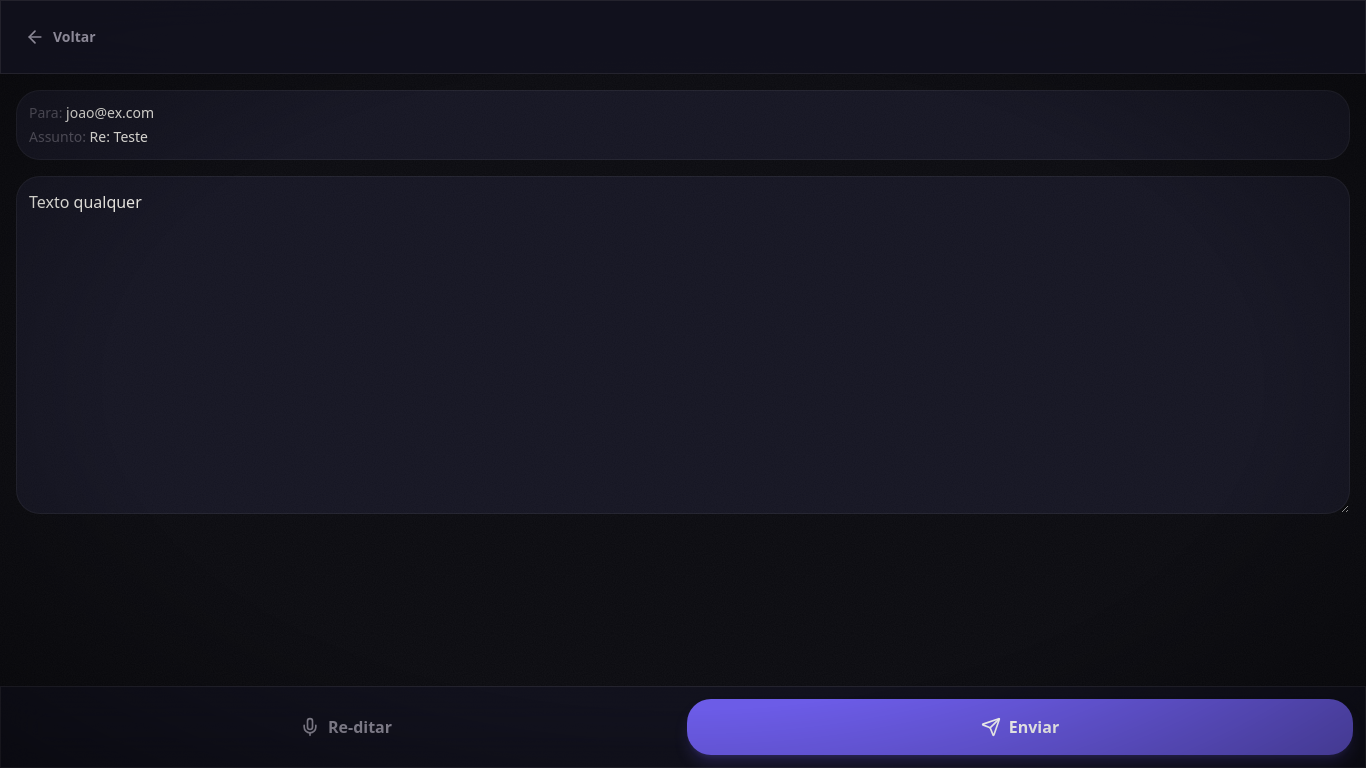
Test: DraftPage › clicking Send shows error toast on failure
The image size is (1366, 768).
Click the button "Enviar".
click(1020, 727)  # box [687,699,1353,755]
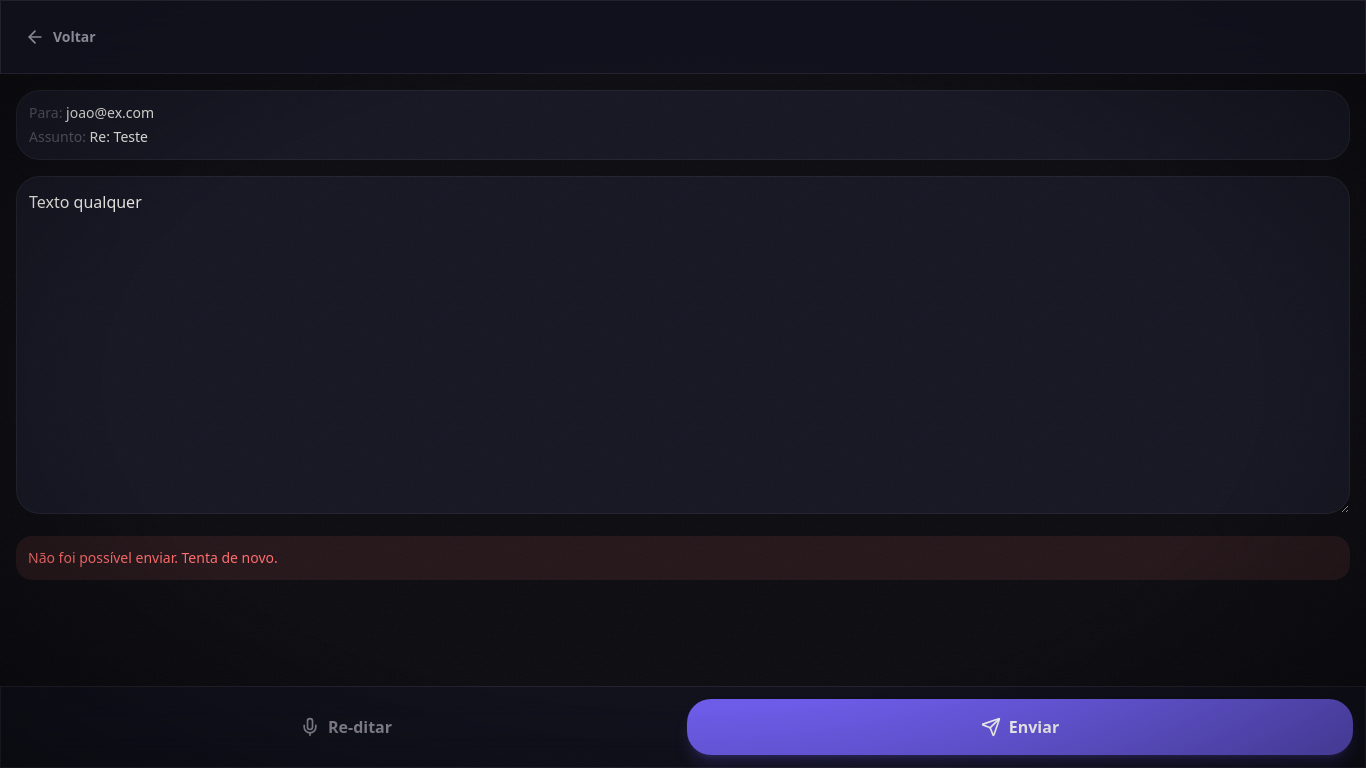
Check: the message "Não foi possível enviar. Tenta de novo." is shown, box [16,536,1350,580]
Check: the message reads "Não foi possível enviar. Tenta de novo.", box [28,548,278,567]
